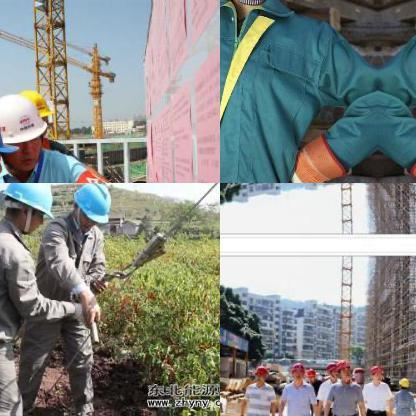Helmet: (0, 92, 45, 163), (0, 183, 56, 233), (69, 183, 110, 227), (20, 84, 52, 122), (286, 358, 306, 382), (250, 362, 270, 382), (336, 356, 352, 379), (324, 358, 336, 381), (395, 374, 411, 390), (369, 362, 383, 380), (302, 364, 318, 378)
